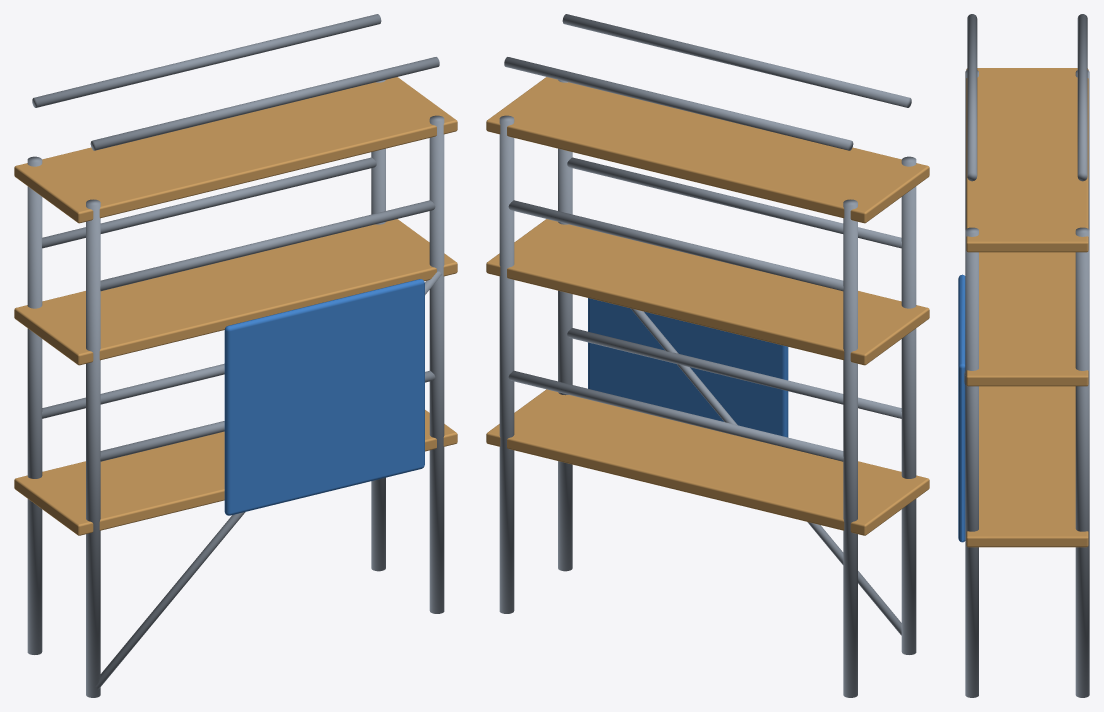
The model's file is scaffold.glb.
The picture shows the model from 3 angles, left to right: view 1: azimuth 30°, elevation 25°; view 2: azimuth 150°, elevation 25°; view 3: azimuth 270°, elevation 25°; orthographic projection. The views are drawn at different scales.
Visible parts, largest first — view 1: scaffold; view 2: scaffold; view 3: scaffold.
Part boxes in pixels (left/top/right/bottom): scaffold: left=14, top=14, right=457, bottom=697; scaffold: left=486, top=14, right=929, bottom=697; scaffold: left=958, top=14, right=1089, bottom=697.
Bounding box in the file's own units: 2.1 × 2.93 × 0.665.
